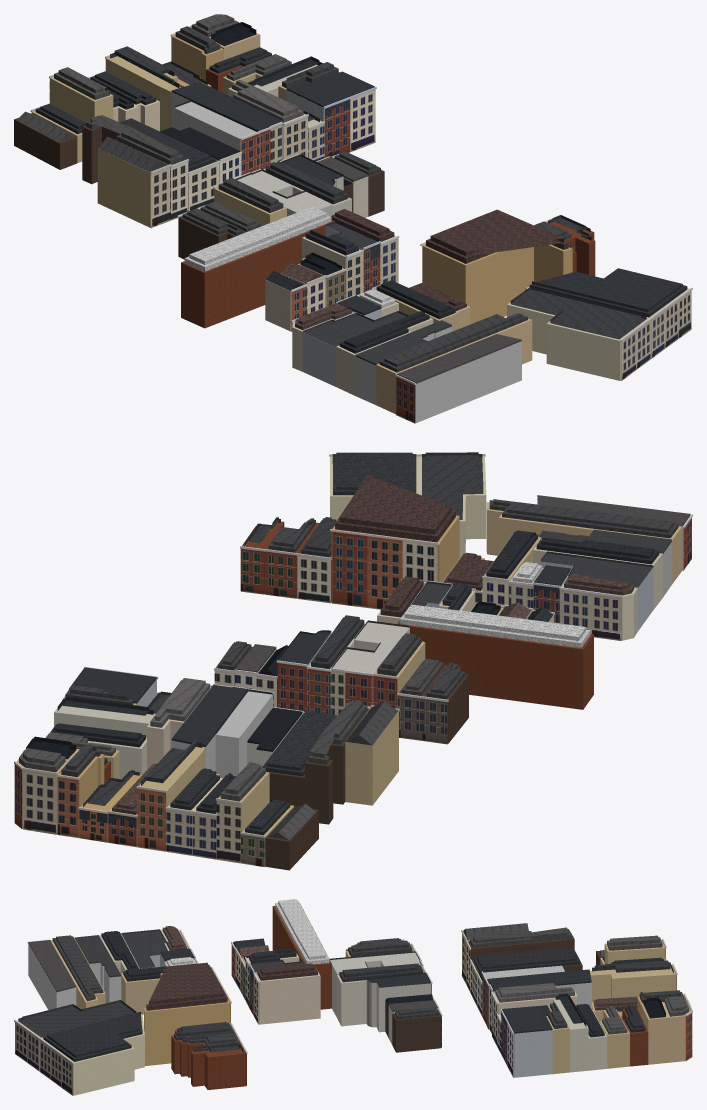
3 views of the same model, one above another, from view 1: azimuth 30°, elevation 25°; view 2: azimuth 150°, elevation 25°; view 3: azimuth 270°, elevation 25° (orthographic). The views are drawn at different scales.
Parts seen in each view (by area): view 1: bldg_505336134, bldg_494977470, bldg_494977484, bldg_505336130, bldg_505336134_roof_b, bldg_505336128_roof_b, bldg_505336123, bldg_505336111_facade0, bldg_505336130_roof_b, bldg_494977470_roof_b, bldg_505336115_roof, bldg_494977484_roof (+50 smaller); view 2: bldg_494977470, bldg_505336134_facade0, bldg_505336134_roof_b, bldg_505336123, bldg_505336117, bldg_494977470_roof_b, bldg_494977479_facade1, bldg_505336128_roof_b, bldg_505336130_roof_b, bldg_494977483, bldg_505336122, bldg_505336115_roof (+63 smaller); view 3: bldg_505336134, bldg_505332541, bldg_505336128, bldg_505336128_roof_b, bldg_505336134_roof_b, bldg_505336094, bldg_505336140, bldg_505336130_roof_b, bldg_505336111, bldg_505332549, bldg_505332546, bldg_494977470 (+62 smaller).
Boxes of the visible parts, left/top/right/bottom form: bldg_505336134: left=422, top=244, right=572, bottom=324; bldg_494977470: left=181, top=220, right=334, bottom=328; bldg_494977484: left=415, top=341, right=521, bottom=422; bldg_505336130: left=507, top=302, right=648, bottom=380; bldg_505336134_roof_b: left=430, top=209, right=564, bottom=256; bldg_505336128_roof_b: left=532, top=268, right=682, bottom=311; bldg_505336123: left=97, top=143, right=166, bottom=227; bldg_505336111_facade0: left=323, top=87, right=376, bottom=157; bldg_505336130_roof_b: left=515, top=286, right=641, bottom=334; bldg_494977470_roof_b: left=189, top=206, right=327, bottom=264; bldg_505336115_roof: left=171, top=82, right=282, bottom=131; bldg_494977484_roof: left=397, top=334, right=521, bottom=383; bldg_494977470: left=397, top=620, right=593, bottom=709; bldg_505336134_facade0: left=330, top=529, right=440, bottom=609; bldg_505336134_roof_b: left=339, top=475, right=451, bottom=534; bldg_505336123: left=345, top=708, right=398, bottom=805; bldg_505336117: left=215, top=691, right=272, bottom=778; bldg_494977470_roof_b: left=404, top=604, right=585, bottom=640; bldg_494977479_facade1: left=559, top=587, right=622, bottom=640; bldg_505336128_roof_b: left=336, top=452, right=413, bottom=491; bldg_505336130_roof_b: left=425, top=452, right=479, bottom=514; bldg_494977483: left=486, top=502, right=682, bottom=583; bldg_505336122: left=305, top=708, right=369, bottom=824; bldg_505336115_roof: left=171, top=684, right=247, bottom=747; bldg_505336134: left=144, top=973, right=230, bottom=1065; bldg_505332541: left=255, top=968, right=320, bottom=1024; bldg_505336128: left=41, top=1014, right=144, bottom=1095; bldg_505336128_roof_b: left=47, top=1012, right=141, bottom=1057; bldg_505336134_roof_b: left=149, top=962, right=224, bottom=1005; bldg_505336094: left=590, top=965, right=675, bottom=1001; bldg_505336140: left=191, top=1046, right=245, bottom=1089; bldg_505336130_roof_b: left=22, top=1000, right=132, bottom=1033; bldg_505336111: left=514, top=1016, right=552, bottom=1077; bldg_505332549: left=392, top=1009, right=440, bottom=1052; bldg_505332546: left=366, top=980, right=430, bottom=1032; bldg_494977470: left=272, top=903, right=331, bottom=1009.
Size of the model in its own units: 91.1 by 17.88 by 177.
Materials: 74 (36 with a texture image).
